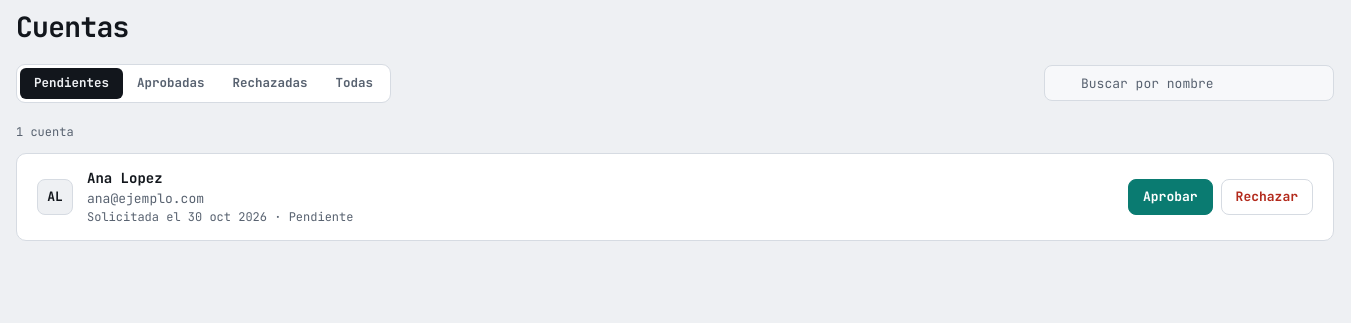
Test: PaginaAdministracion › rechaza una cuenta y avisa
This screenshot has width=1351, height=323.
Click the button with aria-label "Rechazar a Ana Lopez" at (1267, 197), box x1=1221 y1=179 x2=1313 y2=215
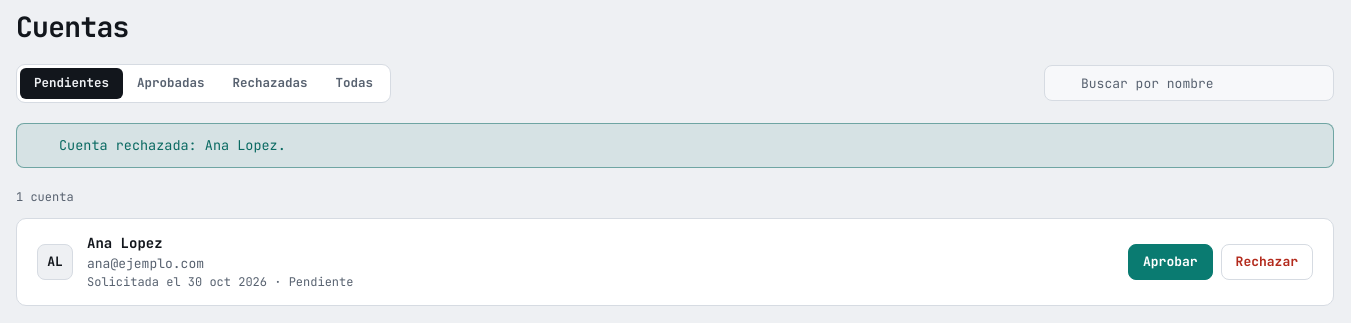
Expected: the message "Cuenta rechazada: Ana Lopez." is shown, x1=16 y1=123 x2=1334 y2=168
